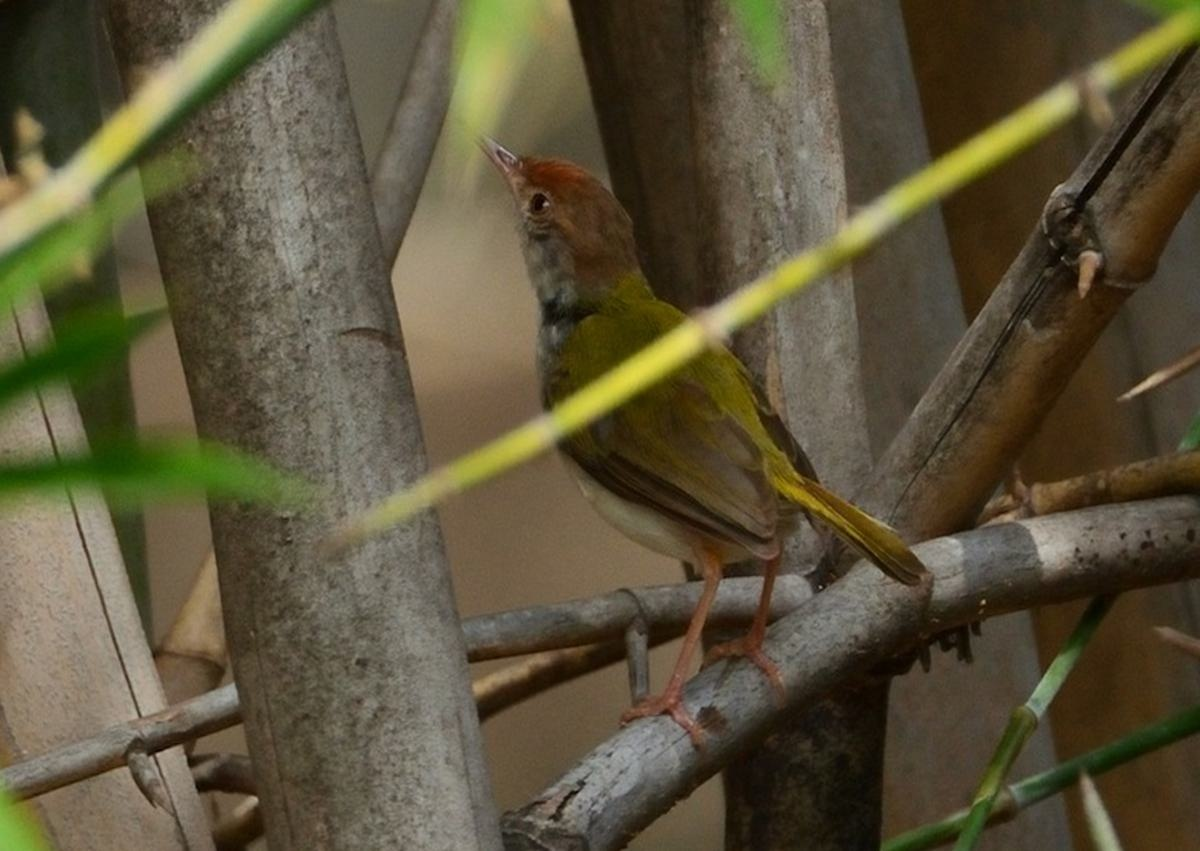tailorbird: (487, 107, 921, 641)
